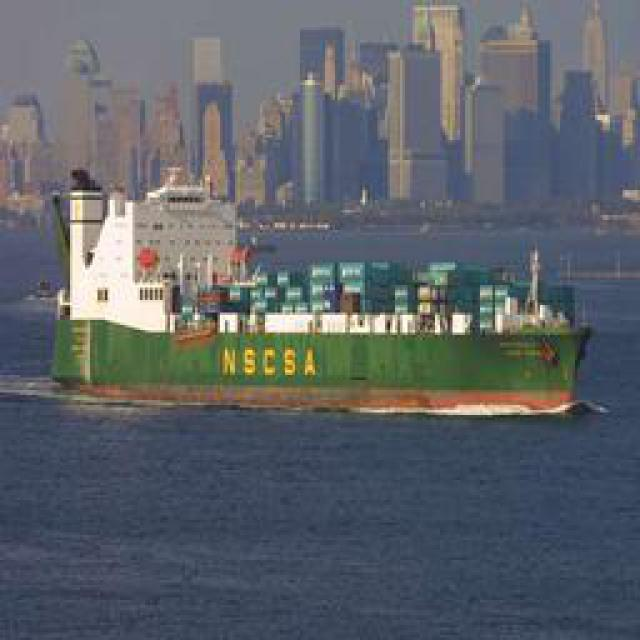Ship: (40, 222, 593, 422)
